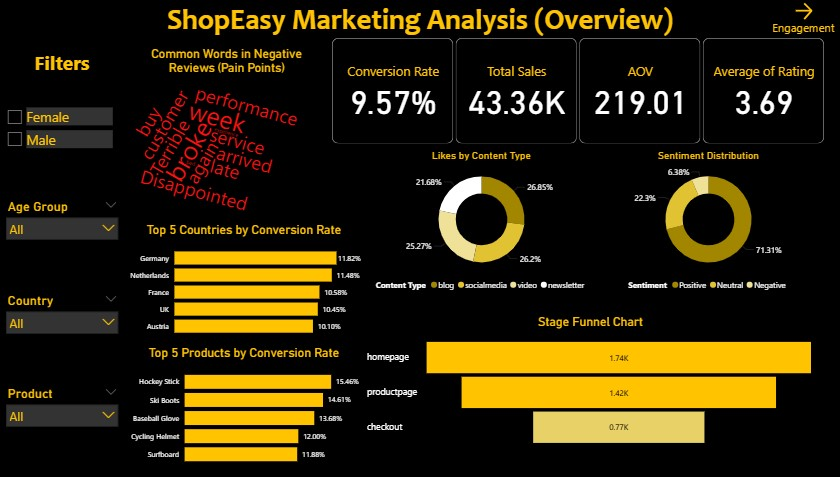

The dashboard page shown, as its layout file describes it:
{"tool":"powerbi","page":{"name":"Home","canvas":[1400,800],"ordinal":6},"visuals":[{"type":"textbox","box":[0,0,1400,81.7],"z":0},{"type":"donutChart","title":"Likes by Content Type","fields":{"Category":["engagement_data.formatted_content_type"],"Y":["Sum(engagement_data.Likes)"]},"box":[618.3,251.7,368.3,245],"z":1000},{"type":"cardVisual","fields":{"Data":["Measures Table.Conversion Rate","Measures Table.Total Price","Measures Table.AOV","Avg(customer_reviews_analyzed.Rating)"]},"box":[548.3,61.7,830,186.7],"z":2000},{"type":"donutChart","title":"Sentiment Distribution","fields":{"Category":["customer_reviews_analyzed.Sentiment"],"Y":["CountNonNull(customer_reviews_analyzed.Sentiment)"]},"box":[993.3,251.7,375,245],"z":3000},{"type":"funnel","title":"Stage Funnel Chart","fields":{"Category":["customer_journey.formatted_stage"],"Y":["CountNonNull(customer_journey.formatted_stage)"]},"box":[606.7,528.3,755,235],"z":4000},{"type":"barChart","title":"Top 5 Countries by Conversion Rate","fields":{"Category":["geography.Country"],"Y":["Measures Table.Conversion Rate"]},"box":[206.7,375,400,200],"z":5000},{"type":"WordCloud1447959067750","title":"Common Words in Negative Reviews (Pain Points)","fields":{"Category":["customer_reviews_analyzed.ReviewText"]},"box":[206.7,81.7,341.7,323.3],"z":6000},{"type":"textbox","box":[0,80.6,206.7,61.7],"z":7000},{"type":"slicer","fields":{"Values":["customers.Gender"]},"box":[0,174,193.3,96.7],"z":8000},{"type":"slicer","fields":{"Values":["customers.Age Group"]},"box":[0,330.1,206.7,125],"z":9000},{"type":"slicer","fields":{"Values":["geography.Country"]},"box":[0,486.2,206.7,125],"z":10000},{"type":"slicer","fields":{"Values":["products.ProductName"]},"box":[0,642.3,206.7,125],"z":11000},{"type":"barChart","title":"Top 5 Products by Conversion Rate","fields":{"Y":["Measures Table.Conversion Rate"],"Category":["products.ProductName"]},"box":[206.7,580,400,210],"z":12000},{"type":"actionButton","box":[1278.3,0,121.7,68.3],"z":13000}]}

Visuals, with their boxes in screenshot pixels (x1, y1, x2, y2), scaled from the page's 1400x800 canvas onto the 840x477 screenshot:
textbox: <bbox>0, 0, 839, 49</bbox>
"Likes by Content Type" donutChart: <bbox>371, 150, 592, 296</bbox>
cardVisual - Measures Table.Conversion Rate x Measures Table.Total Price: <bbox>329, 37, 827, 148</bbox>
"Sentiment Distribution" donutChart: <bbox>596, 150, 821, 296</bbox>
"Stage Funnel Chart" funnel: <bbox>364, 315, 817, 455</bbox>
"Top 5 Countries by Conversion Rate" barChart: <bbox>124, 224, 364, 343</bbox>
"Common Words in Negative Reviews (Pain Points)" WordCloud1447959067750: <bbox>124, 49, 329, 241</bbox>
textbox: <bbox>0, 48, 124, 85</bbox>
slicer - customers.Gender: <bbox>0, 104, 116, 161</bbox>
slicer - customers.Age Group: <bbox>0, 197, 124, 271</bbox>
slicer - geography.Country: <bbox>0, 290, 124, 364</bbox>
slicer - products.ProductName: <bbox>0, 383, 124, 458</bbox>
"Top 5 Products by Conversion Rate" barChart: <bbox>124, 346, 364, 471</bbox>
actionButton: <bbox>767, 0, 839, 41</bbox>
